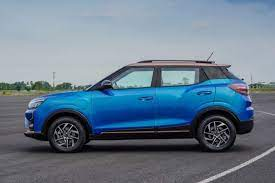XUV 400: (20, 57, 256, 154)
